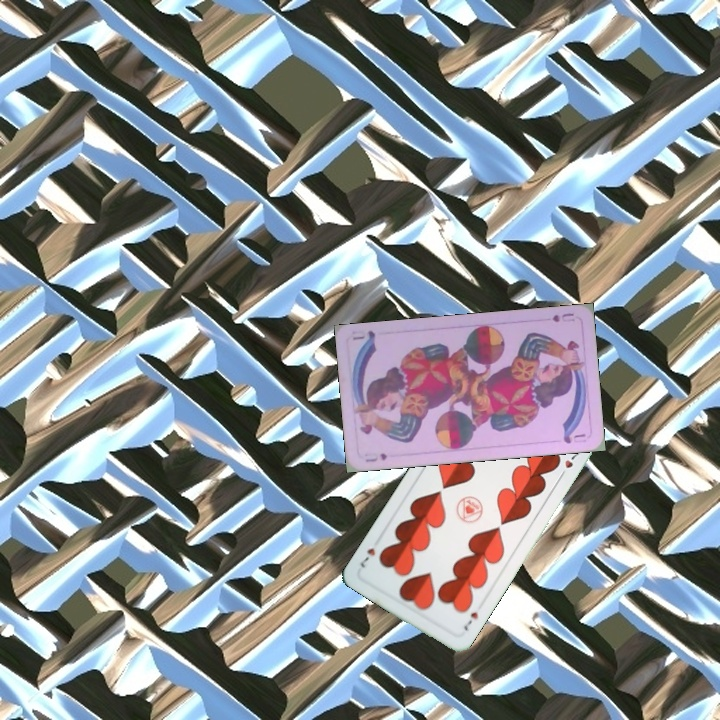H7: (459, 608, 481, 633)
SU: (548, 309, 577, 325), (362, 449, 390, 464)
